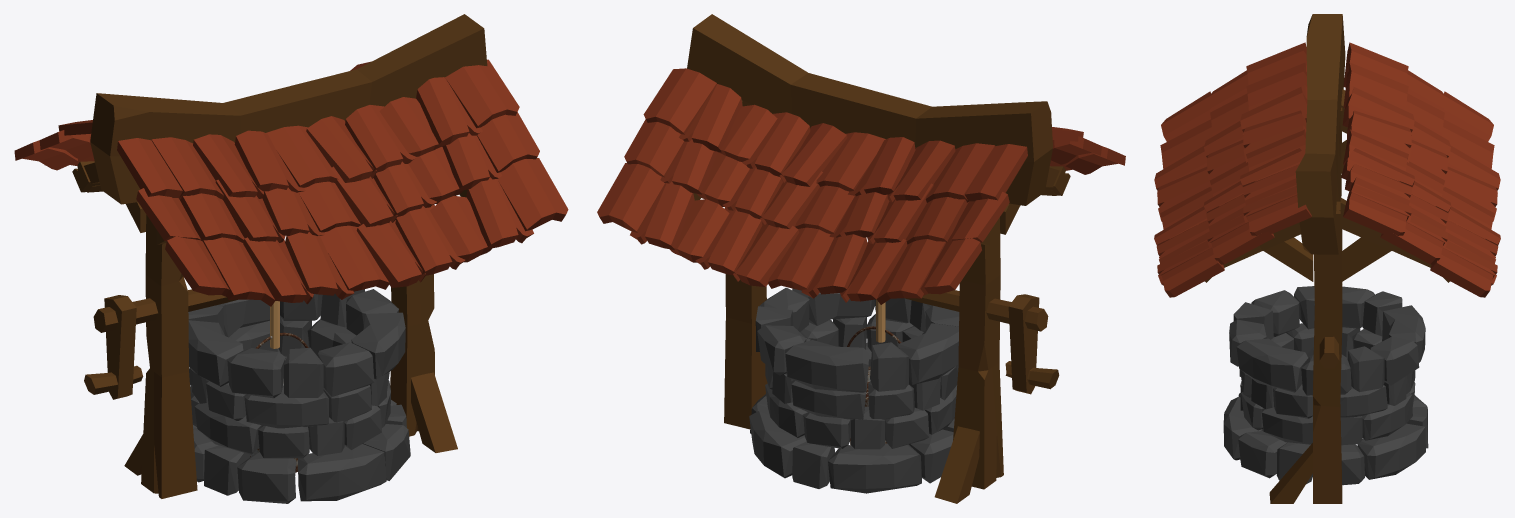
The model's file is pozo.glb.
3 views of the same model, side by side, from view 1: azimuth 30°, elevation 25°; view 2: azimuth 150°, elevation 25°; view 3: azimuth 270°, elevation 25° (orthographic). The views are drawn at different scales.
Parts seen in each view (by area): view 1: Cubo.005, Cube.003, Cubo.001, Cube, Cube.002, Cube.001, Cubo, Cubo.008, Cubo.015, Cubo.035, Cubo.019, Cubo.028 (+29 smaller); view 2: Cubo.005, Cube.003, Cube, Cubo.001, Cube.002, Cube.001, Cubo, Cubo.008, Cubo.015, Cubo.035, Cubo.019, Cubo.028 (+29 smaller); view 3: Cube.003, Cubo.005, Cube, Cubo, Cube.002, Cube.001, Cubo.015, Cubo.035, Cubo.016, Cubo.029, Cubo.027, Cubo.026 (+28 smaller).
Part boxes in pixels (x1,y1,x2,y2): Cubo.005: [90, 14, 487, 204]; Cube.003: [188, 289, 405, 398]; Cubo.001: [141, 215, 197, 498]; Cube: [193, 400, 410, 503]; Cube.002: [189, 316, 389, 428]; Cube.001: [190, 348, 390, 458]; Cubo: [390, 274, 434, 436]; Cubo.008: [14, 140, 229, 296]; Cubo.015: [497, 158, 568, 231]; Cubo.035: [445, 59, 519, 128]; Cubo.019: [39, 130, 201, 241]; Cubo.028: [58, 120, 189, 199]; Cubo.005: [687, 14, 1052, 205]; Cube.003: [755, 287, 959, 392]; Cube: [749, 394, 954, 493]; Cubo.001: [953, 217, 1003, 489]; Cube.002: [765, 314, 958, 419]; Cube.001: [765, 342, 957, 449]; Cubo: [724, 274, 767, 429]; Cubo.008: [920, 146, 1125, 295]; Cubo.015: [597, 163, 664, 232]; Cubo.035: [643, 68, 716, 134]; Cubo.019: [947, 136, 1101, 242]; Cubo.028: [958, 127, 1083, 202]; Cube.003: [1229, 286, 1425, 395]; Cubo.005: [1295, 14, 1345, 254]; Cube: [1223, 393, 1428, 485]; Cubo: [1312, 201, 1342, 503]; Cube.002: [1239, 323, 1415, 418]; Cube.001: [1240, 381, 1415, 445]; Cubo.015: [1160, 247, 1494, 297]; Cubo.035: [1246, 191, 1408, 235]; Cubo.016: [1246, 62, 1408, 110]; Cubo.029: [1243, 110, 1411, 162]; Cubo.027: [1240, 87, 1414, 135]; Cubo.026: [1210, 222, 1444, 264].
Size of the model in its own units: 3.67 by 3.63 by 3.23.
6 materials, 1 textured.
